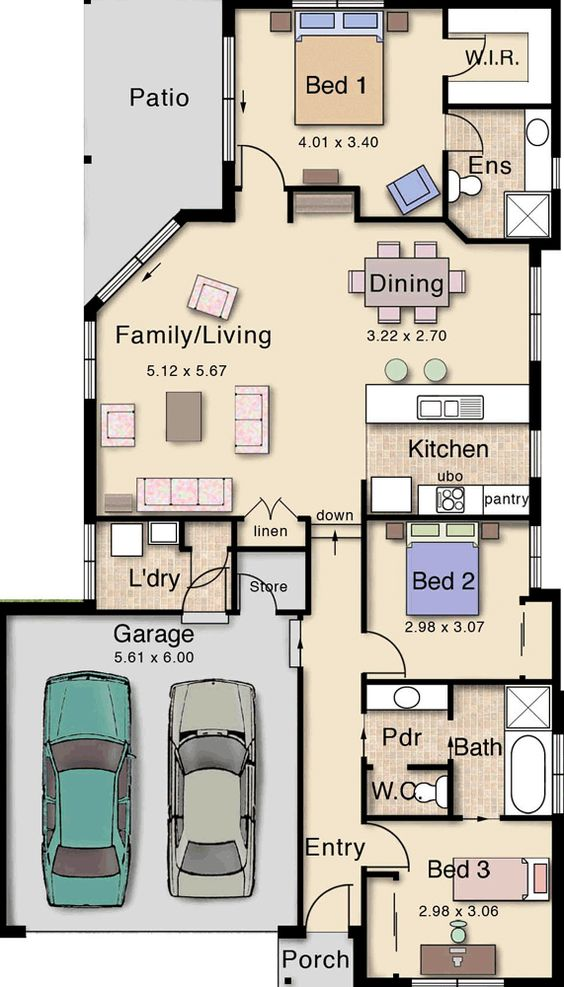door: (369, 821, 415, 870), (177, 565, 229, 604), (373, 630, 415, 677), (308, 880, 354, 916), (187, 557, 225, 595), (238, 571, 275, 604)
room: (77, 219, 369, 521), (359, 234, 545, 520), (225, 1, 450, 227), (355, 815, 564, 986), (358, 517, 560, 685), (358, 679, 564, 821), (435, 99, 564, 257), (80, 514, 237, 617), (441, 2, 564, 107), (228, 545, 312, 616)
window: (219, 35, 238, 163), (527, 263, 544, 363), (79, 319, 98, 400), (80, 520, 98, 602), (551, 731, 564, 817), (527, 523, 543, 590), (526, 427, 544, 480), (550, 155, 563, 192)
